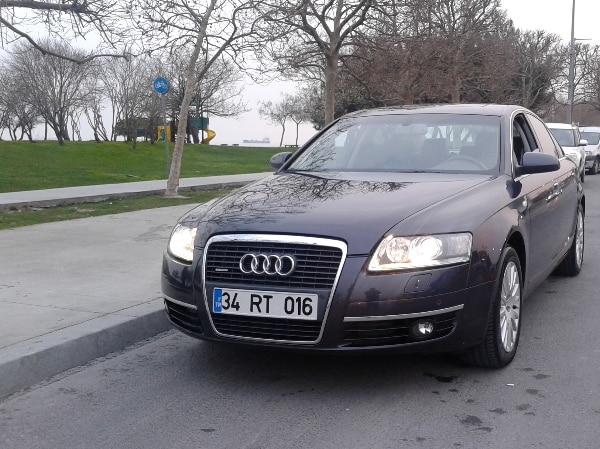audi: (234, 249, 299, 279)
